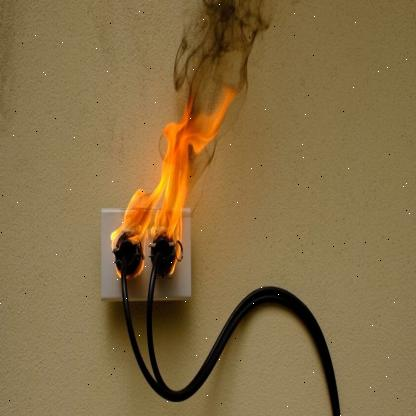fire: (107, 98, 234, 287)
smoke: (170, 0, 271, 103)
